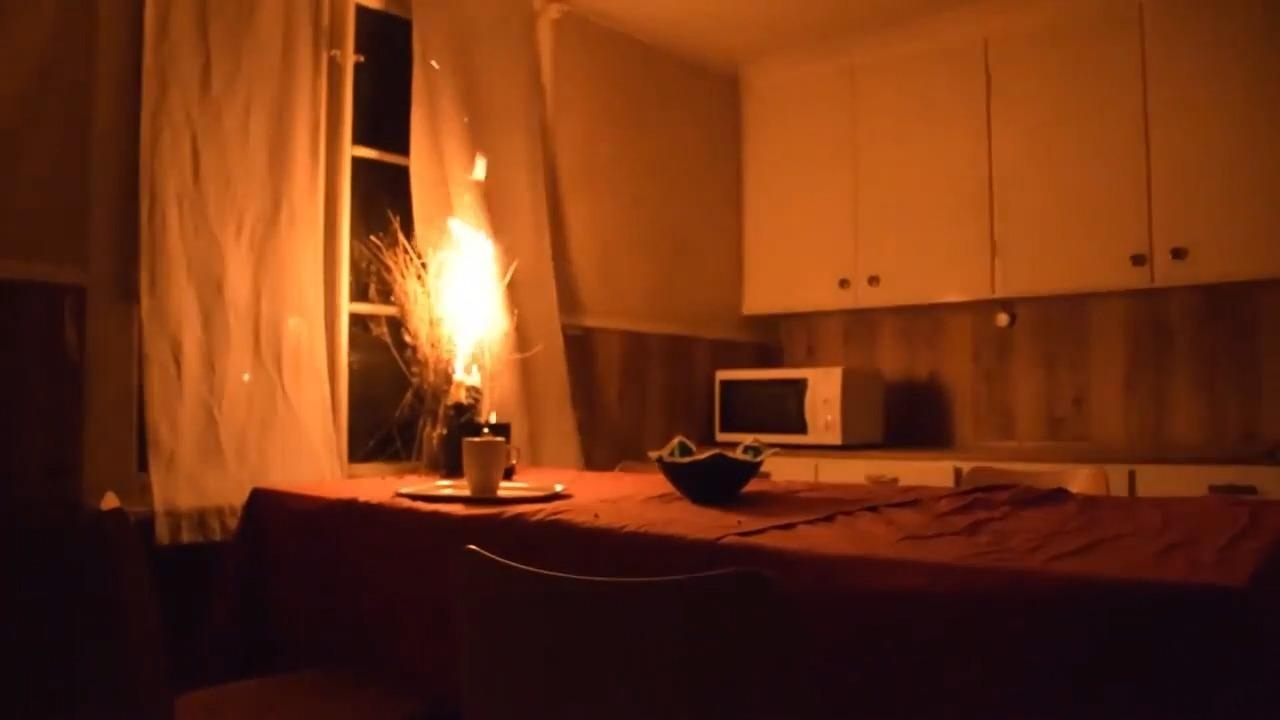fire: (400, 141, 529, 428)
